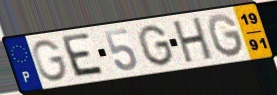5: (102, 27, 139, 73)
E: (60, 31, 108, 80)
G: (206, 12, 247, 59), (136, 24, 177, 68), (31, 38, 70, 84)
H: (171, 15, 215, 65)
